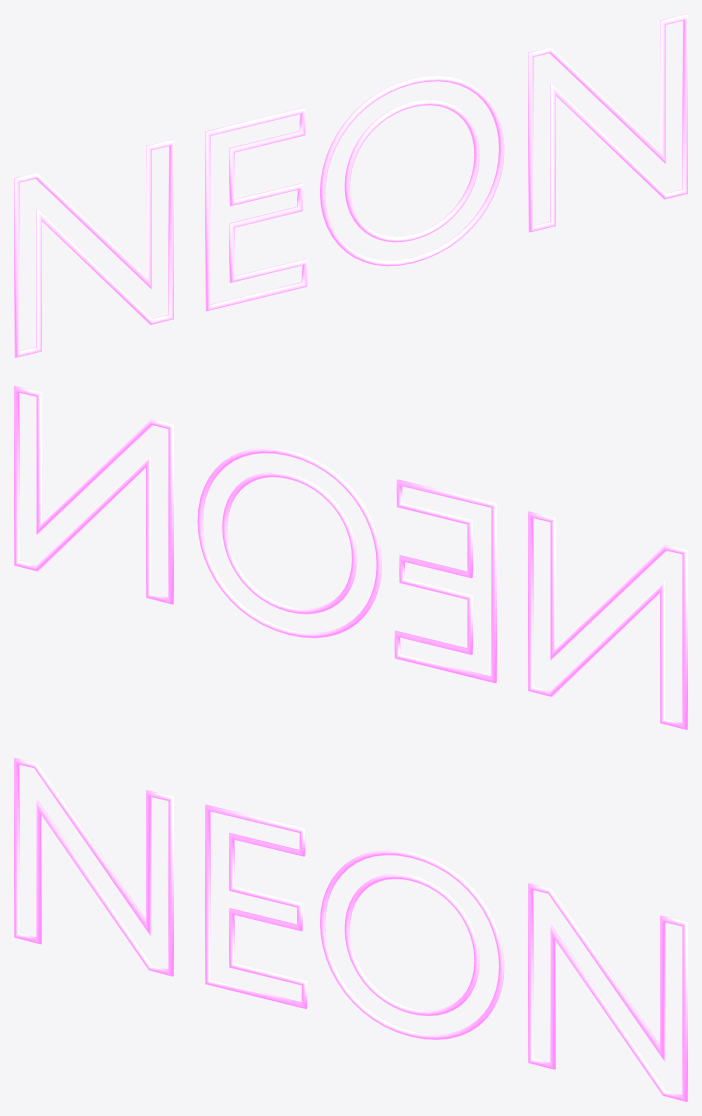
File: asset.glb
3 views of the same model, one above another, from view 1: azimuth 30°, elevation 25°; view 2: azimuth 150°, elevation 25°; view 3: azimuth 330°, elevation 25° (orthographic).
Parts seen in each view (by area): view 1: Text; view 2: Text; view 3: Text.
Part boxes in pixels (x1=…): Text: x1=14, y1=14, x2=687, y2=357; Text: x1=14, y1=386, x2=687, y2=729; Text: x1=14, y1=758, x2=687, y2=1101.
Bounding box in the file's own units: 2.76 × 0.72 × 0.02.
